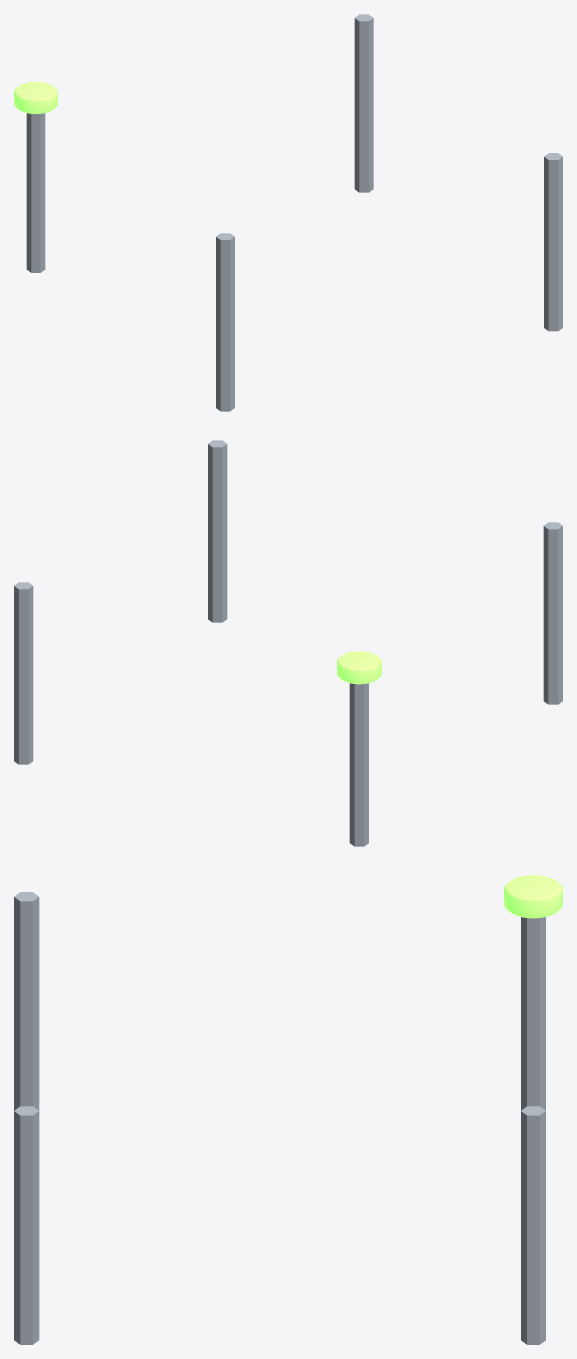
Rendered from tower_detector_field_s2.glb.
The picture shows the model from 3 angles, top to bottom: view 1: azimuth 30°, elevation 25°; view 2: azimuth 150°, elevation 25°; view 3: azimuth 270°, elevation 25°; orthographic projection. The views are drawn at different scales.
Visible parts, largest first — view 1: detector_stub1, detector_stub2, detector_stub3, detector_stub0, detector_up_field_l2_stud; view 2: detector_stub1, detector_stub2, detector_stub3, detector_stub0, detector_up_field_l2_stud; view 3: detector_stub2, detector_stub1, detector_stub3, detector_stub0, detector_up_field_l2_stud.
Part boxes in pixels (left/top/right/bottom): detector_stub1: left=354, top=14, right=373, bottom=192; detector_stub2: left=544, top=153, right=562, bottom=331; detector_stub3: left=216, top=233, right=234, bottom=411; detector_stub0: left=26, top=113, right=45, bottom=272; detector_up_field_l2_stud: left=14, top=82, right=57, bottom=113; detector_stub1: left=14, top=582, right=33, bottom=764; detector_stub2: left=208, top=440, right=227, bottom=622; detector_stub3: left=543, top=522, right=562, bottom=704; detector_stub0: left=349, top=683, right=368, bottom=846; detector_up_field_l2_stud: left=337, top=651, right=381, bottom=684; detector_stub2: left=14, top=1106, right=39, bottom=1344; detector_stub1: left=521, top=1106, right=545, bottom=1344; detector_stub3: left=14, top=892, right=39, bottom=1110; detector_stub0: left=521, top=917, right=545, bottom=1110; detector_up_field_l2_stud: left=504, top=875, right=562, bottom=918.
Size of the model in its own units: 0.5192 by 0.251 by 0.5208.
